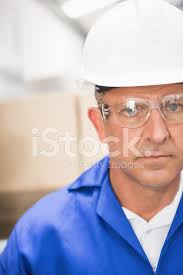Person_wearing_helmet: (80, 0, 182, 127)
